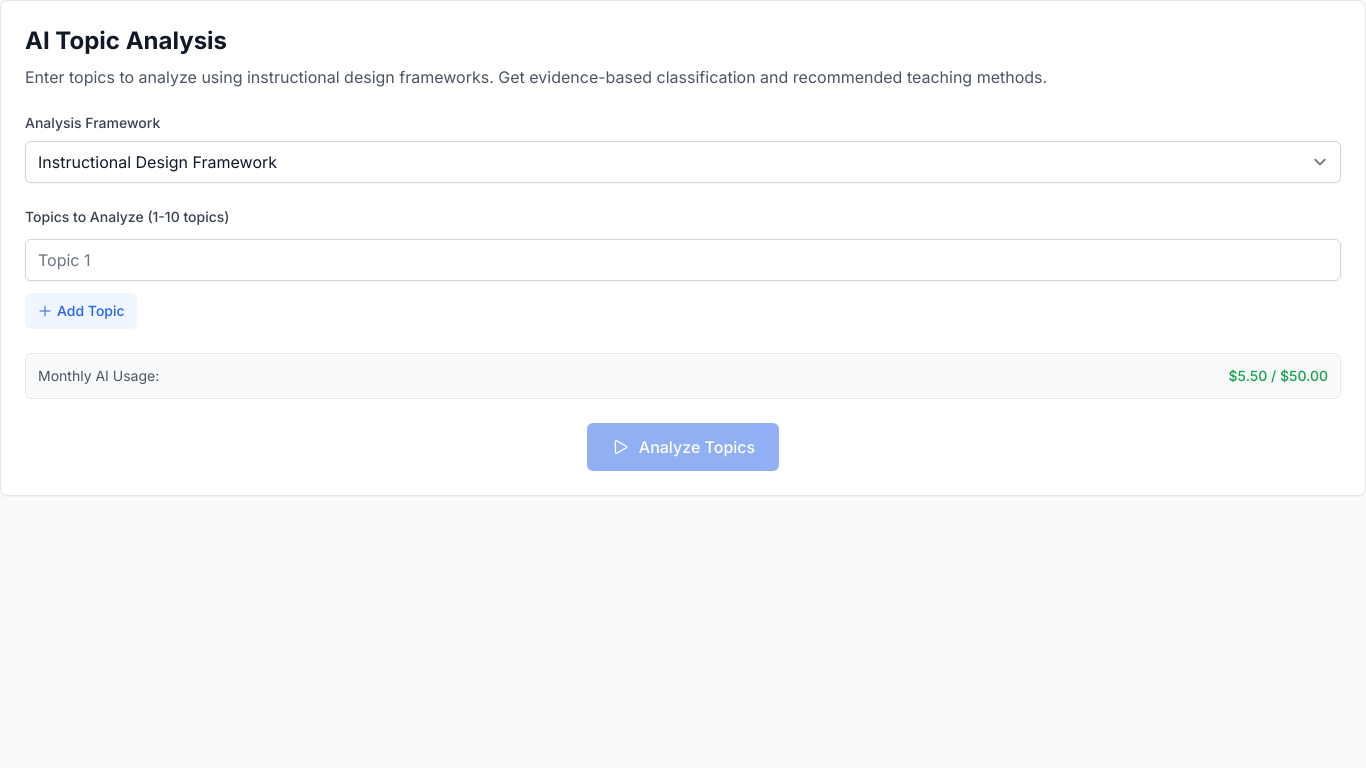
Test case: TopicAnalyzer › Topic Input Management › should allow adding topics up to limit
The image size is (1366, 768).
Check: the number of fields with placeholder "Topic 1" is 1, box [25,239,1341,281]
# Add topics
Click the button "Add Topic": [81, 311] box [25,293,137,329]
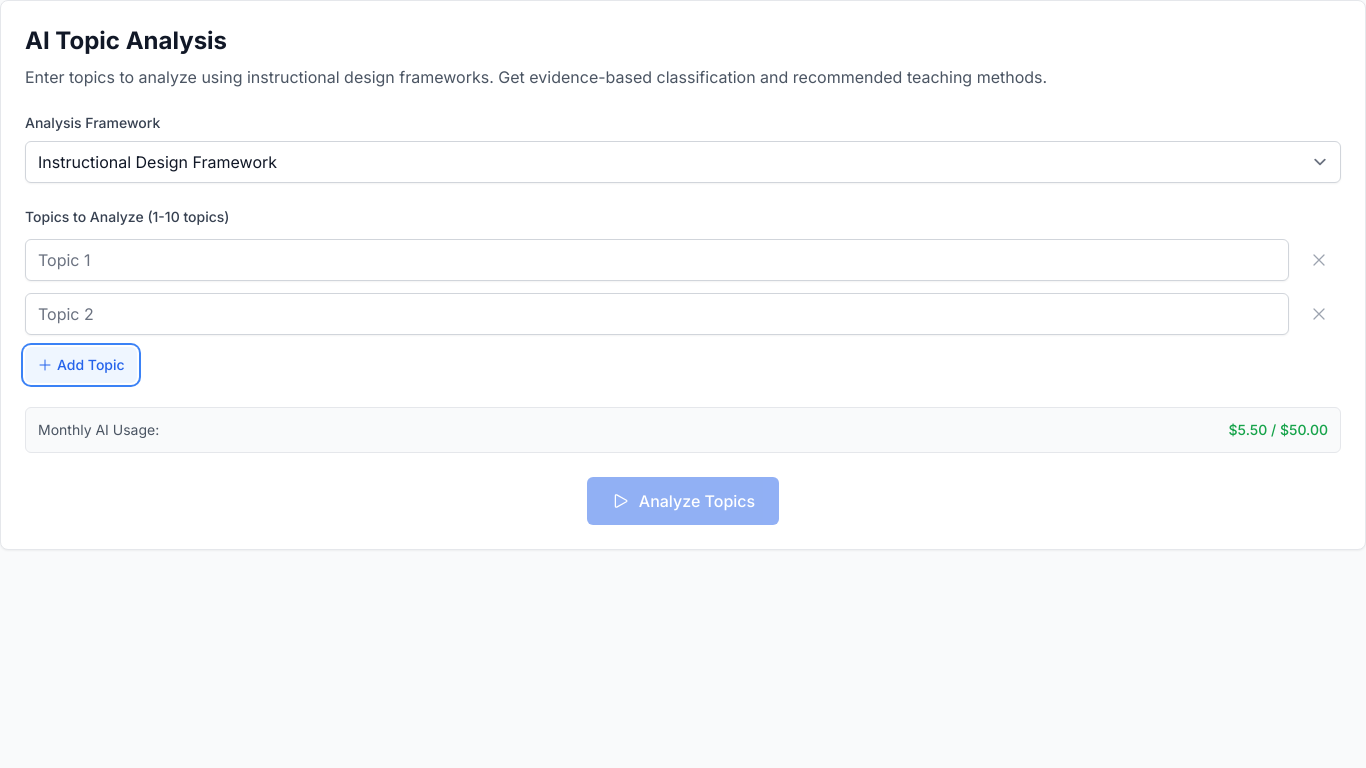
Check: the number of fields with placeholder "Topic 1" is 2, box [25,239,1289,281]; [25,293,1289,335]
Click the button "Add Topic": [81, 365] box [25,347,137,383]
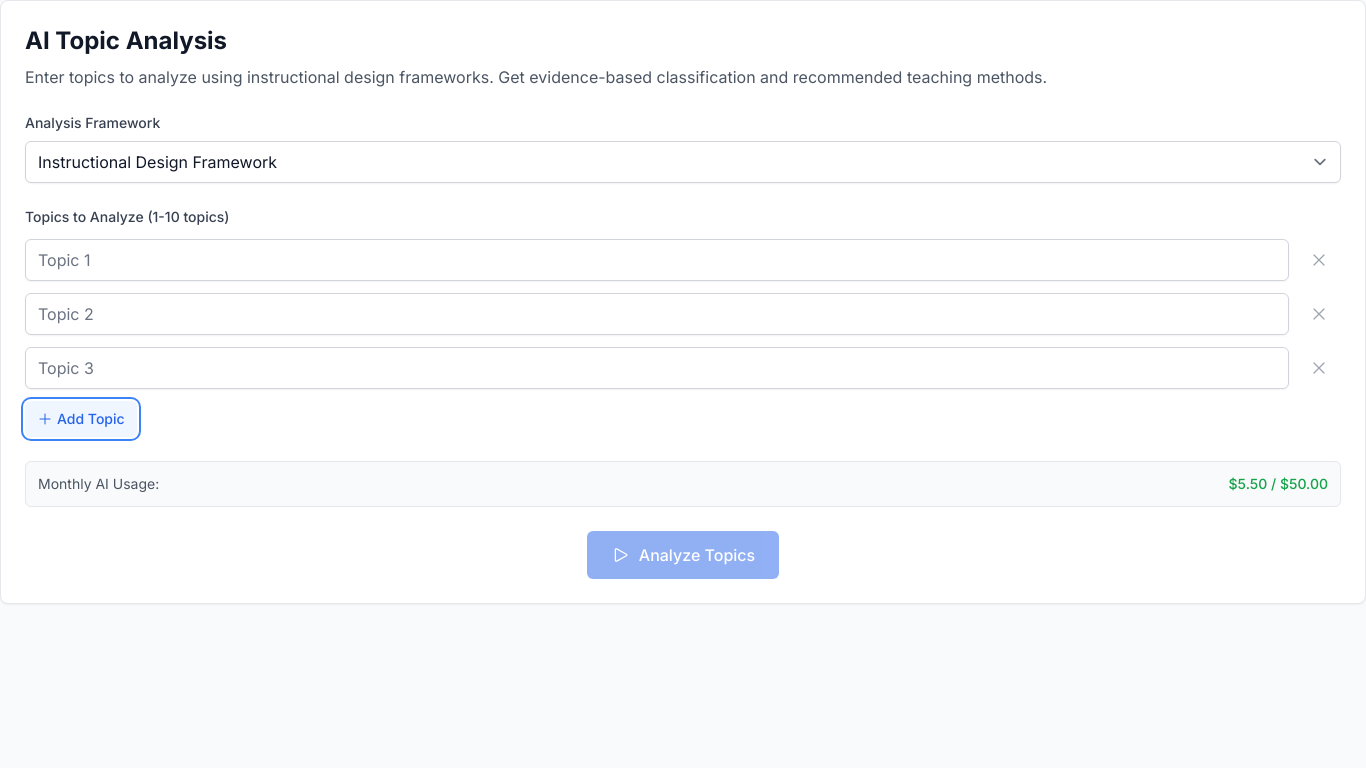
Check: the number of fields with placeholder "Topic 1" is 3, box [25,239,1289,281]; [25,293,1289,335]; [25,347,1289,389]
